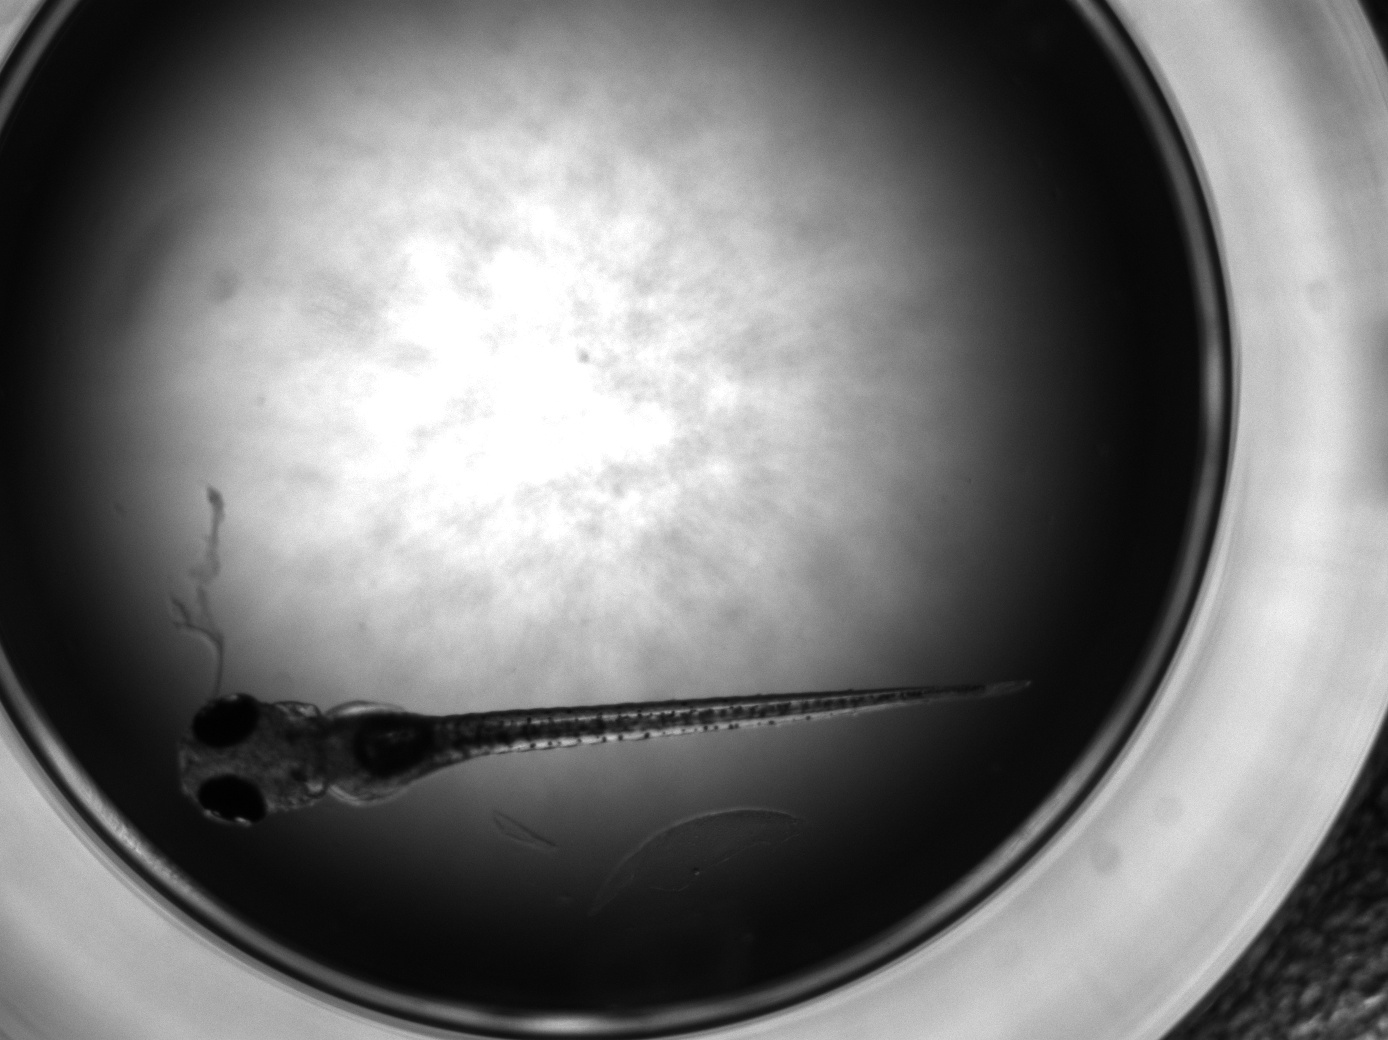debris: (588, 809, 806, 919), (162, 482, 227, 724), (487, 811, 561, 856)
embryo: (176, 667, 1032, 827)
eye: (190, 693, 260, 751), (197, 775, 269, 828)
yolksac: (315, 706, 464, 797)
